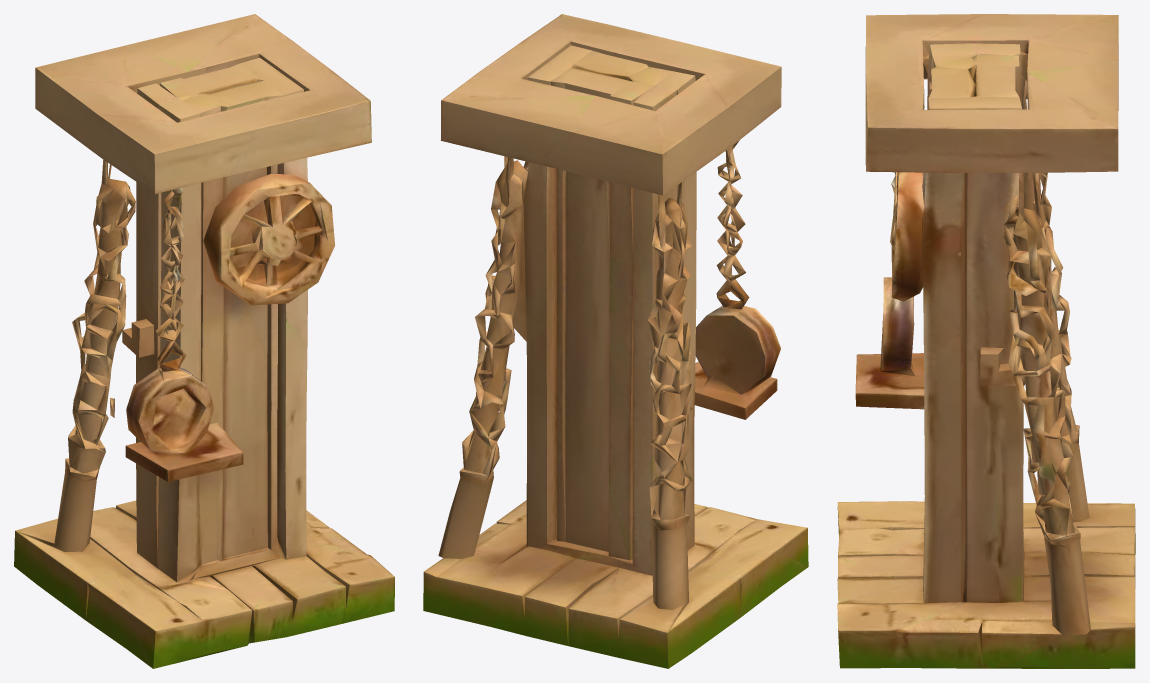
Rendered from m2CableAnchor.glb.
The picture shows the model from 3 angles, left to right: view 1: azimuth 30°, elevation 25°; view 2: azimuth 150°, elevation 25°; view 3: azimuth 270°, elevation 25°; orthographic projection. The views are drawn at different scales.
Parts seen in each view (by area): view 1: model; view 2: model; view 3: model.
Boxes of the visible parts, x1=… form: model: x1=14, y1=14, x2=394, y2=668; model: x1=423, y1=14, x2=808, y2=668; model: x1=837, y1=14, x2=1135, y2=668.
Size of the model in its own units: 0.9889 by 1.9 by 0.9576.
1 material, 1 textured.
